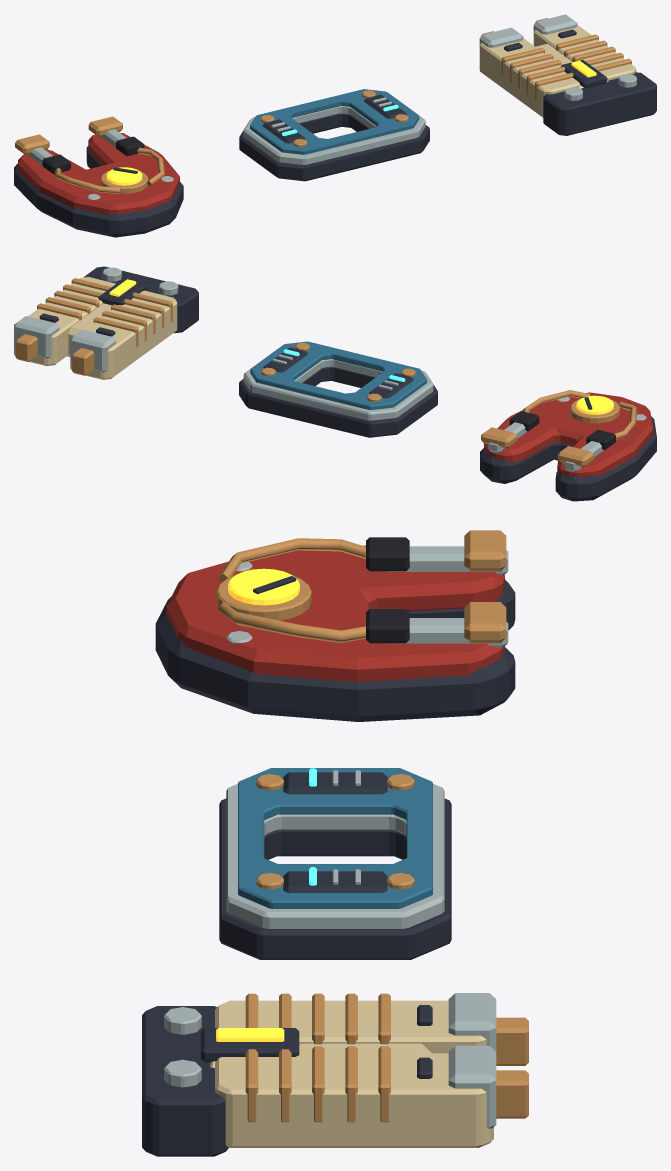
File: w2a-pack-upgrade-cores.glb
3 views of the same model, one above another, from view 1: azimuth 30°, elevation 25°; view 2: azimuth 150°, elevation 25°; view 3: azimuth 270°, elevation 25° (orthographic). The views are drawn at different scales.
Visible parts, largest first — view 1: Foreman's Capacitor, Hydraulic Heart, Plate Core; view 2: Hydraulic Heart, Foreman's Capacitor, Plate Core; view 3: Hydraulic Heart, Foreman's Capacitor, Plate Core.
Boxes of the visible parts, left/top/right/bottom form: Foreman's Capacitor: left=479, top=14, right=656, bottom=135; Hydraulic Heart: left=14, top=116, right=183, bottom=237; Plate Core: left=239, top=89, right=429, bottom=181; Hydraulic Heart: left=480, top=390, right=656, bottom=501; Foreman's Capacitor: left=14, top=266, right=198, bottom=379; Plate Core: left=239, top=341, right=437, bottom=437; Hydraulic Heart: left=155, top=530, right=515, bottom=721; Foreman's Capacitor: left=142, top=993, right=528, bottom=1156; Plate Core: left=219, top=768, right=451, bottom=959.
Size of the model in its own units: 1.35 by 0.099 by 0.397.
